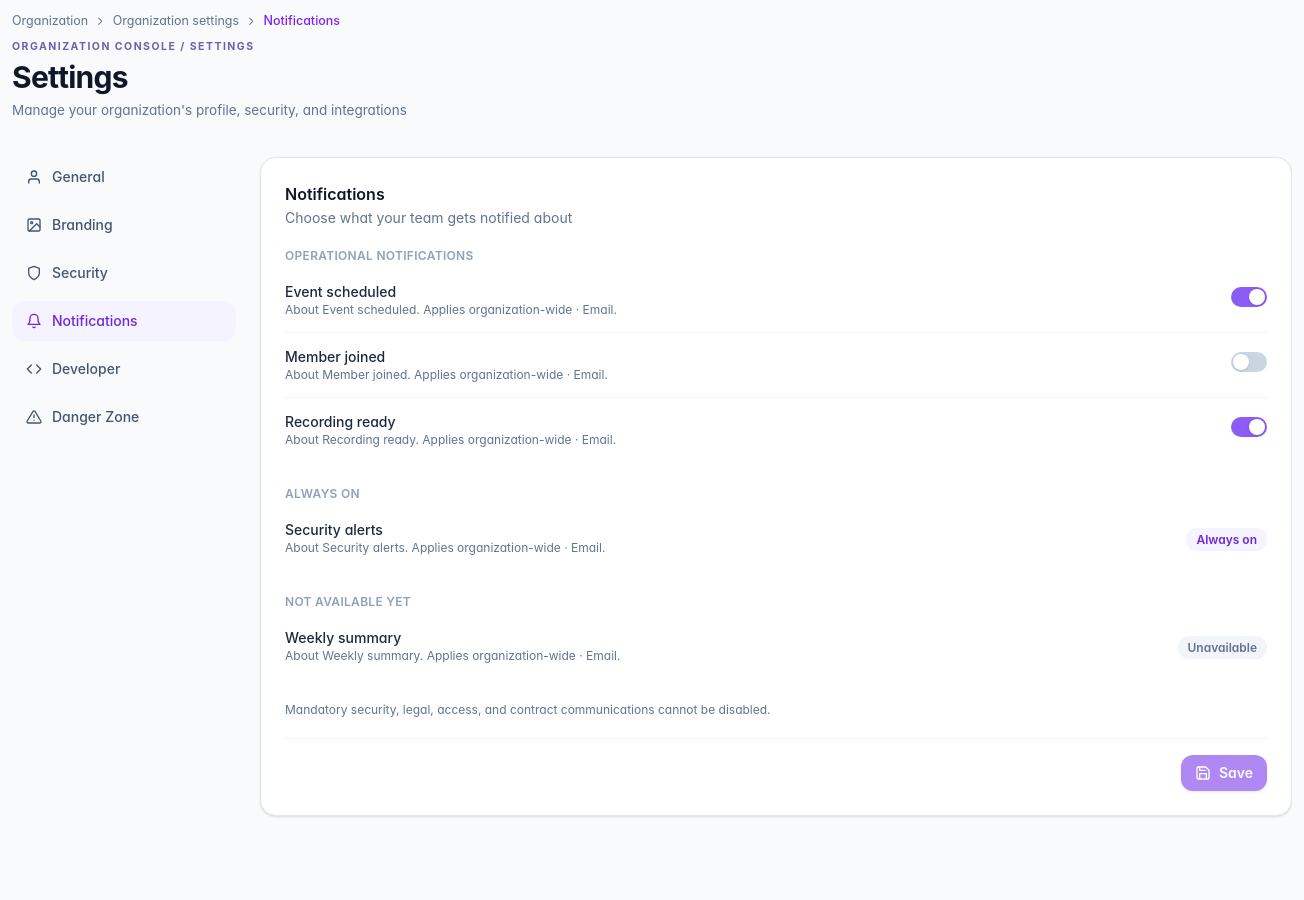
Test: confirmation comes from the server, never before it › a refused save shows the error, keeps the toggle, and claims nothing
The width and height of the screenshot is (1304, 900).
Click the 1st switch.
click(1249, 297)  # box [1231,287,1267,307]
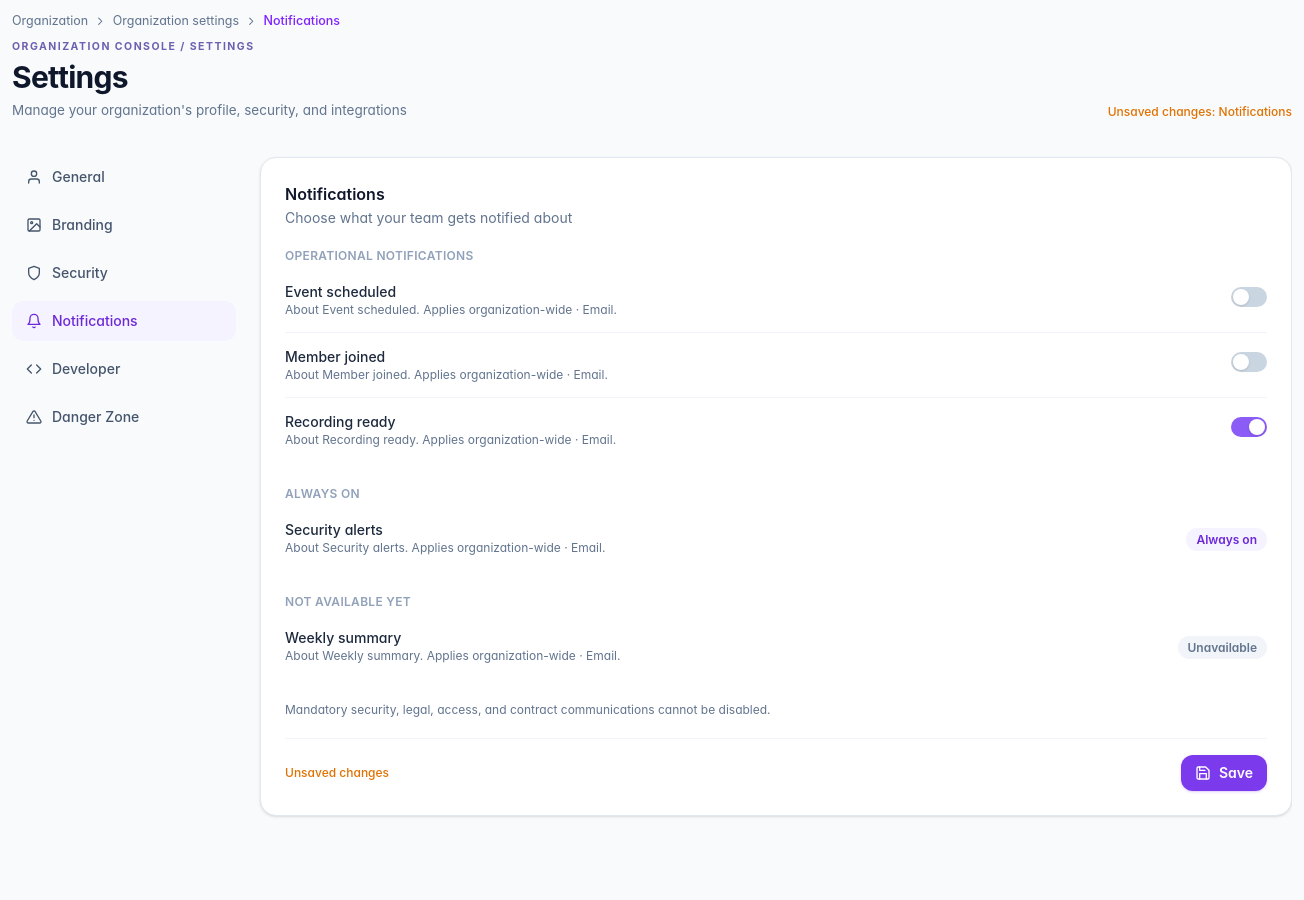
Click the button with aria-label "Save notifications".
click(1224, 773)  # box [1181,755,1267,791]
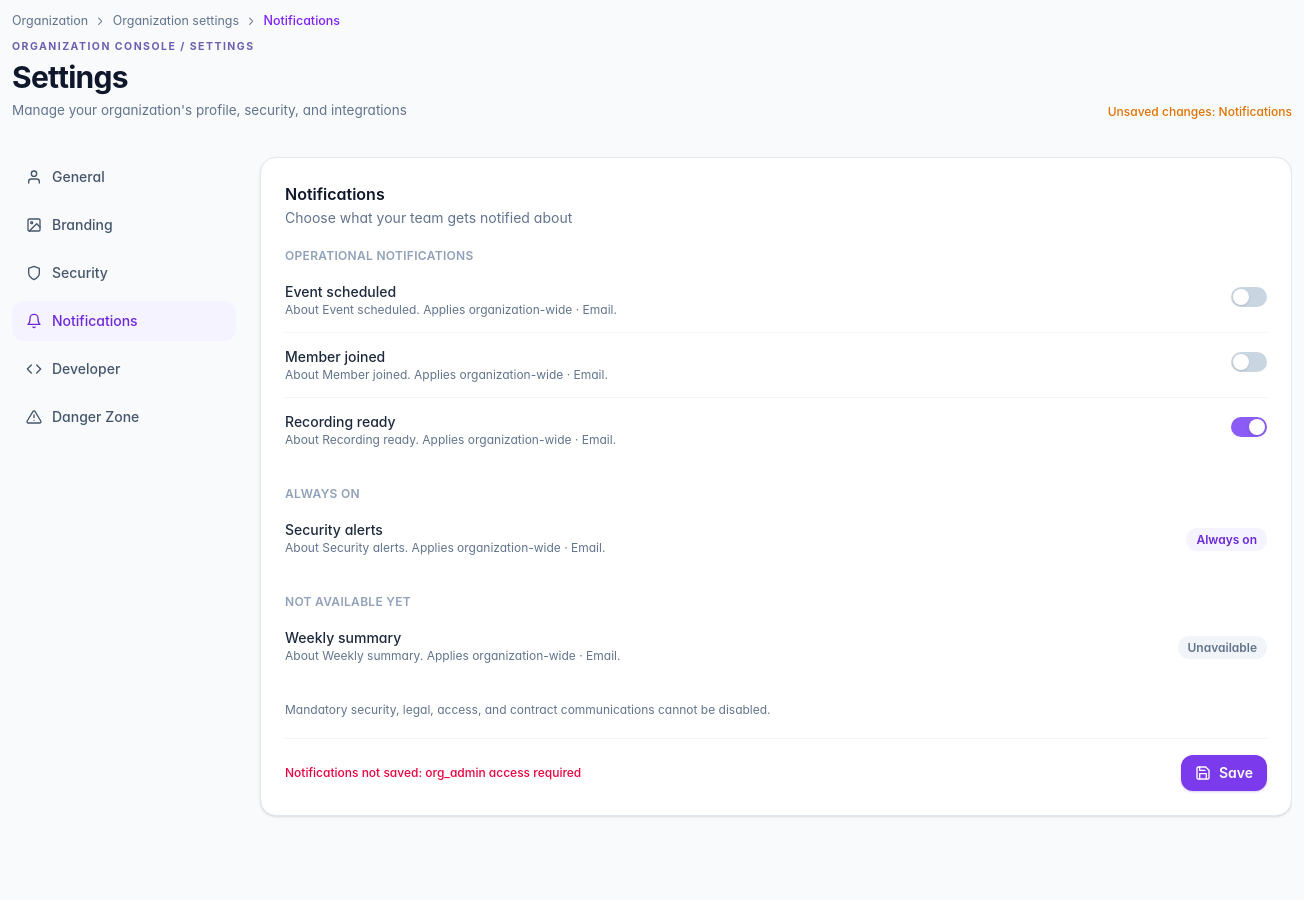
Expected: the 1st switch is not checked, [1231,287,1267,307]
Expected: the button with aria-label "Save notifications" is enabled, [1181,755,1267,791]
Expected: the message reads "Notifications not saved: org_admin access required", [285,765,581,781]
